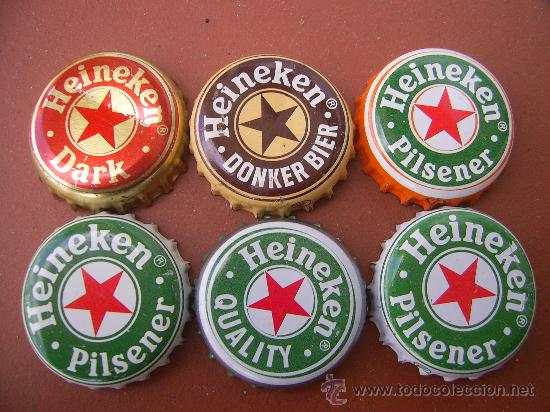heineken: (16, 212, 190, 392), (371, 205, 540, 382), (197, 219, 363, 390), (364, 48, 517, 203)
